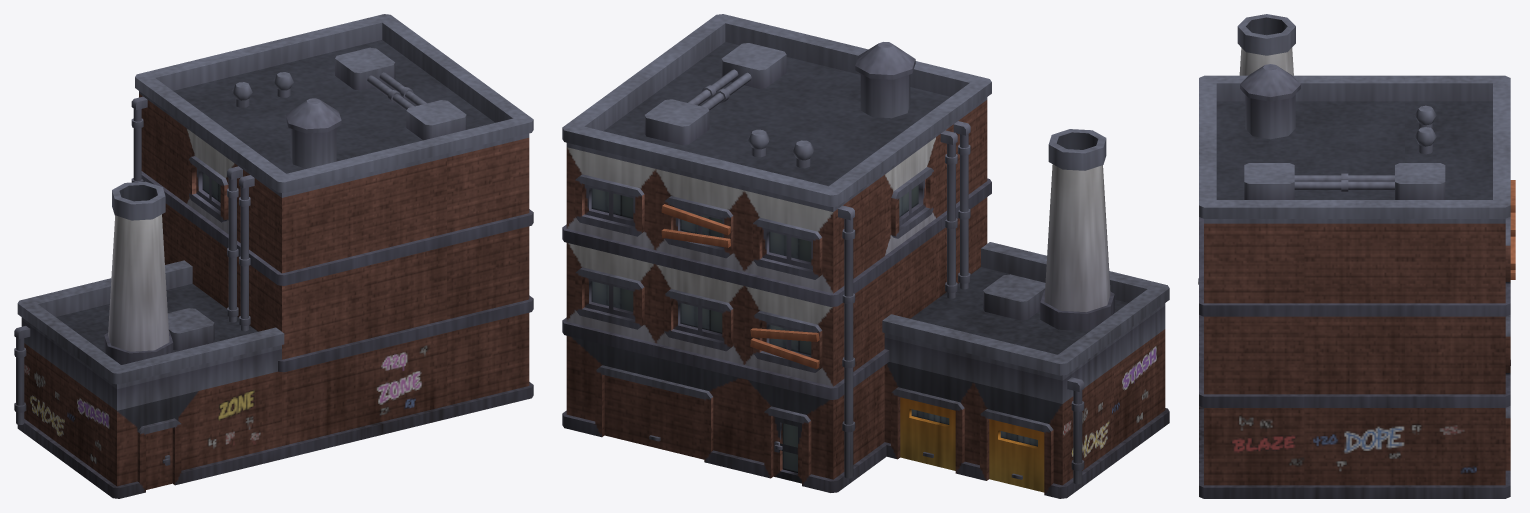
The model's file is building-b-brown-scuffed.glb.
3 views of the same model, side by side, from view 1: azimuth 30°, elevation 25°; view 2: azimuth 150°, elevation 25°; view 3: azimuth 270°, elevation 25° (orthographic). The views are drawn at different scales.
Visible parts, largest first — view 1: building-b; view 2: building-b; view 3: building-b.
Part boxes in pixels (x1,y1,x2,y2): building-b: [14, 14, 533, 498]; building-b: [562, 14, 1169, 498]; building-b: [1198, 14, 1515, 498].
Size of the model in its own units: 2.08 by 1.47 by 1.26.
Materials: 1 (1 with a texture image).
